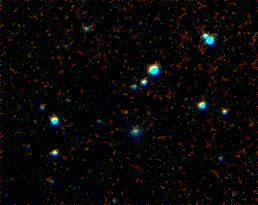star: (113, 98, 143, 128)
